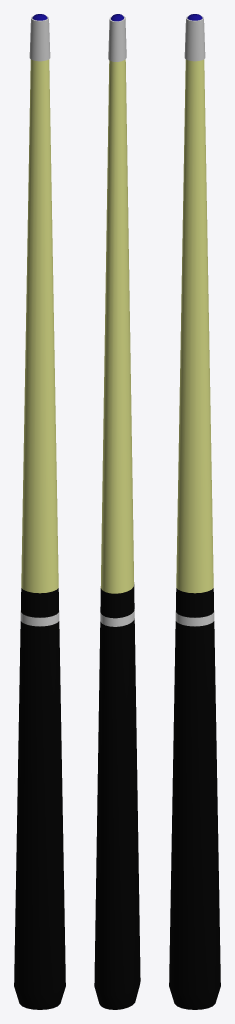
File: Taco.fbx
3 views of the same model, side by side, from view 1: azimuth 90°, elevation 25°; view 2: azimuth 150°, elevation 25°; view 3: azimuth 270°, elevation 25° (orthographic).
Parts seen in each view (by area): view 1: Taco; view 2: Taco; view 3: Taco.
Boxes of the visible parts, left/top/right/bottom form: Taco: left=14, top=14, right=65, bottom=1009; Taco: left=94, top=14, right=140, bottom=1009; Taco: left=169, top=14, right=220, bottom=1009.
Bounding box in the file's own units: 4.48 × 111 × 5.25.
